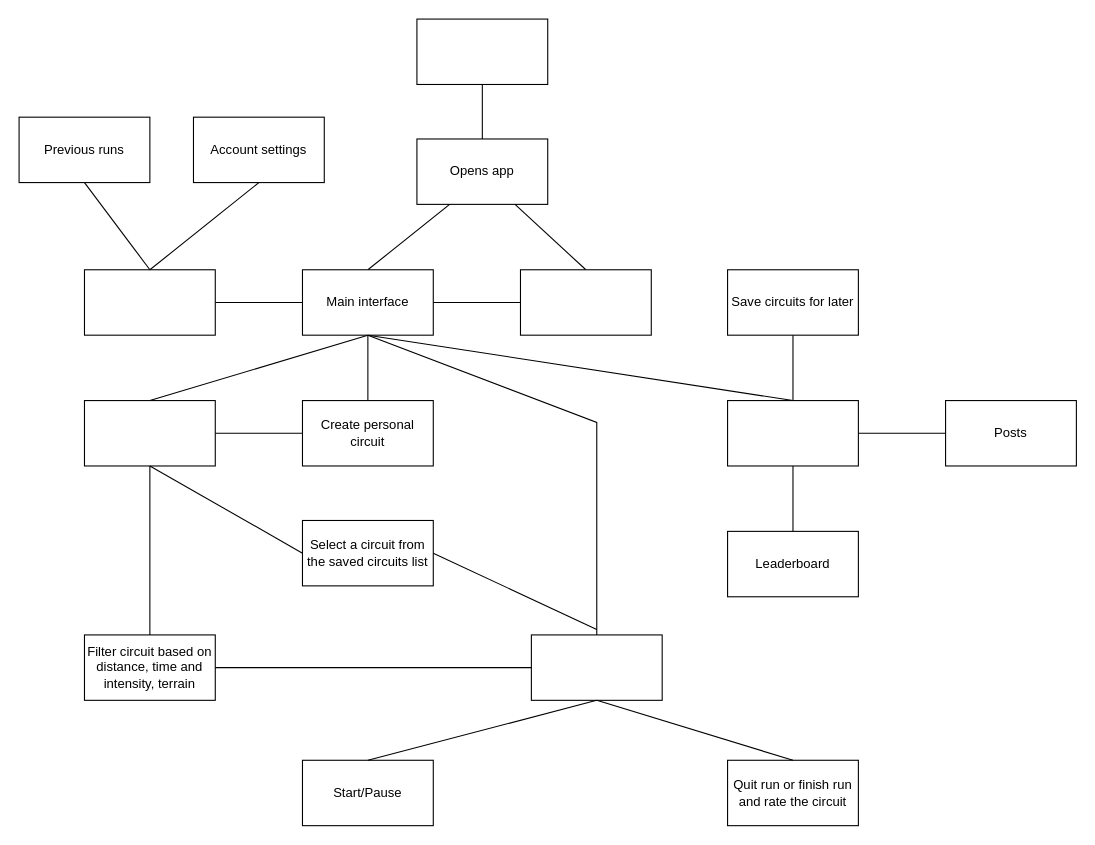
This 1095x845 diagram has some shape labels left out. Each missing label, with the centre of its shape:
"Create account page" belongs at (585,302).
"Join a community / View your community" belongs at (792,432).
"Select a circuit" belongs at (149,432).
"Start run" belongs at (596,667).
"User" belongs at (482,51).
"View profile" belongs at (149,302).
